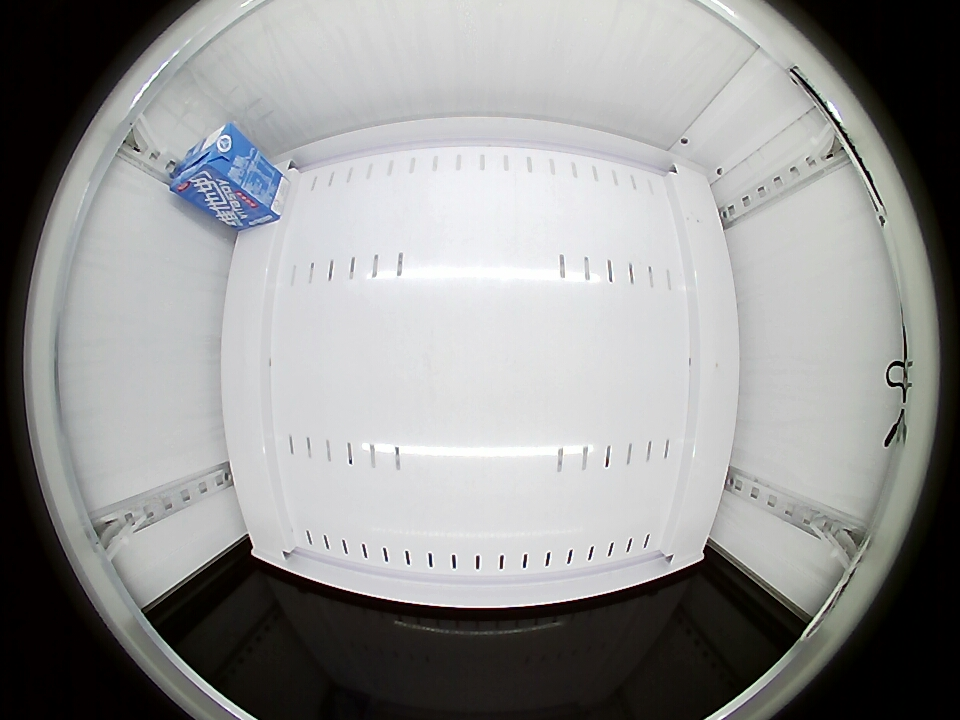weitanai: (169, 122, 253, 201)
